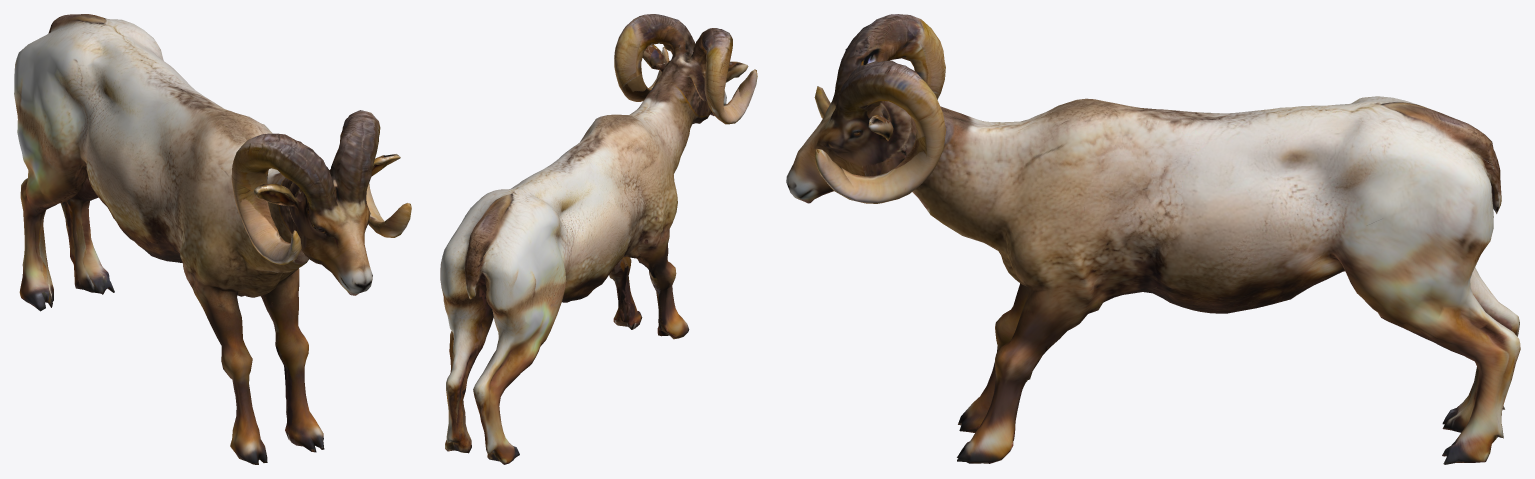
Rendered from Meshy_AI_bighorn_sheep_rams_0318050139_texture.glb.
The picture shows the model from 3 angles, left to right: view 1: azimuth 30°, elevation 25°; view 2: azimuth 150°, elevation 25°; view 3: azimuth 270°, elevation 25°; orthographic projection. The views are drawn at different scales.
Size of the model in its own units: 0.5122 by 1.2 by 1.98.
1 material, 1 textured.
